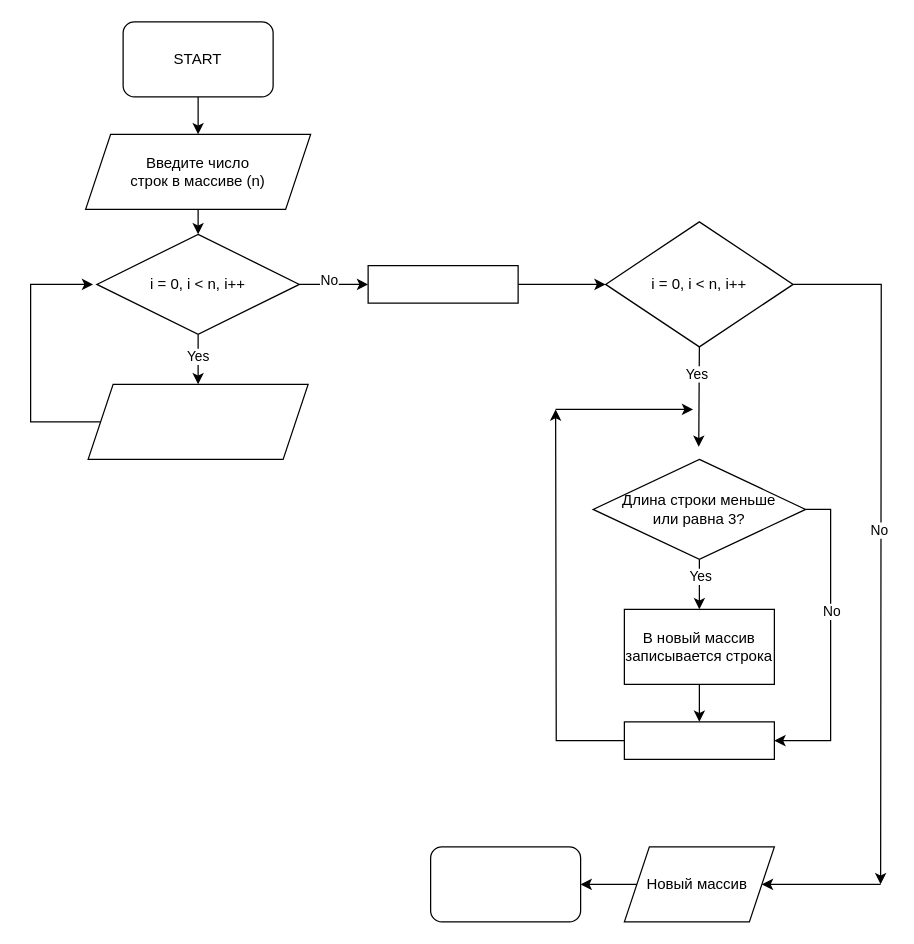
The diagram is 914 pixels wide and 944 high, and some of its shapes have lost their labels. Each missing label, with the box of its shape:
FINISH: (429, 846, 581, 922)
i++: (623, 721, 774, 759)
Введите новую строку массива: (87, 383, 308, 459)
Создаем новый массив: (367, 264, 518, 303)
